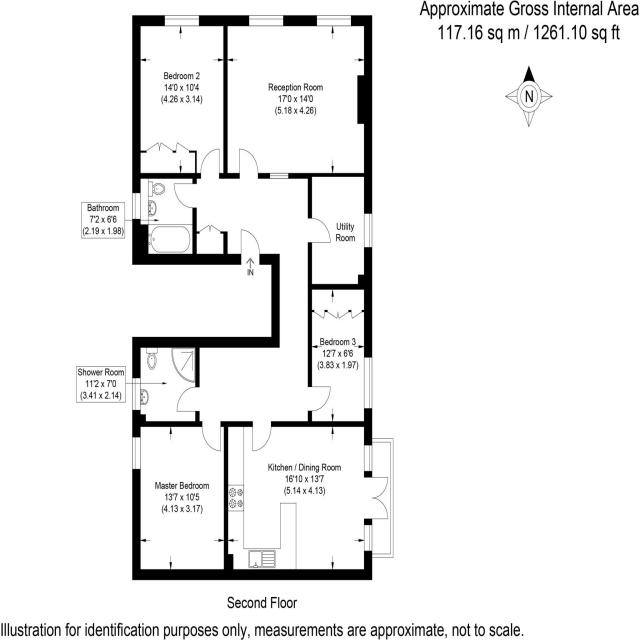DOOR: (250, 422, 277, 456), (307, 383, 333, 416), (240, 228, 263, 265), (174, 383, 200, 415), (307, 216, 333, 246), (237, 147, 260, 179), (199, 421, 222, 453), (173, 181, 198, 210), (200, 146, 221, 179)
DOUBLE DOOR: (364, 471, 392, 524)
ROOM: (224, 421, 394, 581), (223, 15, 373, 179), (131, 14, 228, 180), (132, 419, 229, 581), (308, 283, 373, 428)
WINDOW: (248, 12, 285, 30), (363, 355, 374, 410), (315, 13, 352, 28), (164, 13, 201, 28), (130, 434, 143, 472), (131, 374, 142, 412), (363, 211, 374, 248), (130, 190, 142, 222), (363, 442, 374, 472), (363, 523, 373, 552), (268, 171, 290, 180)
